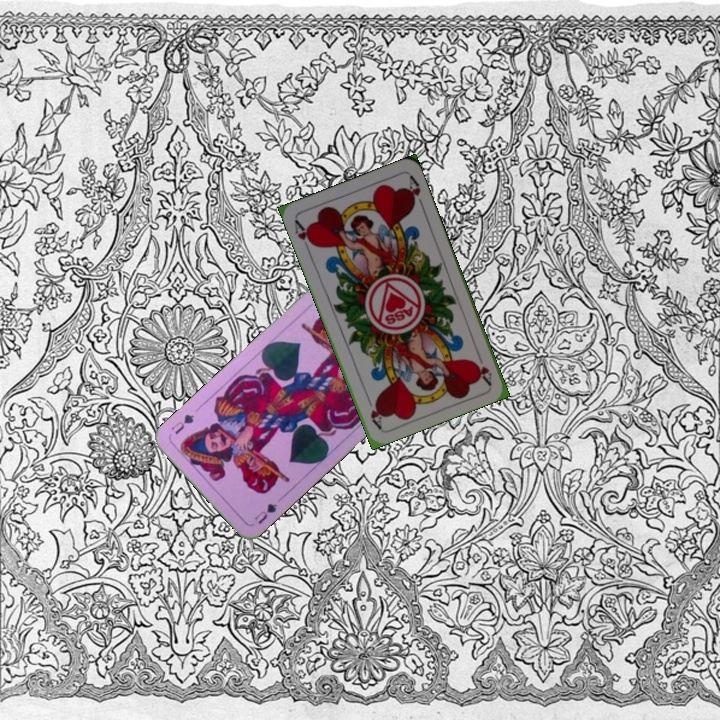GU: (250, 499, 280, 527)
HA: (290, 216, 317, 255), (471, 347, 494, 387)
